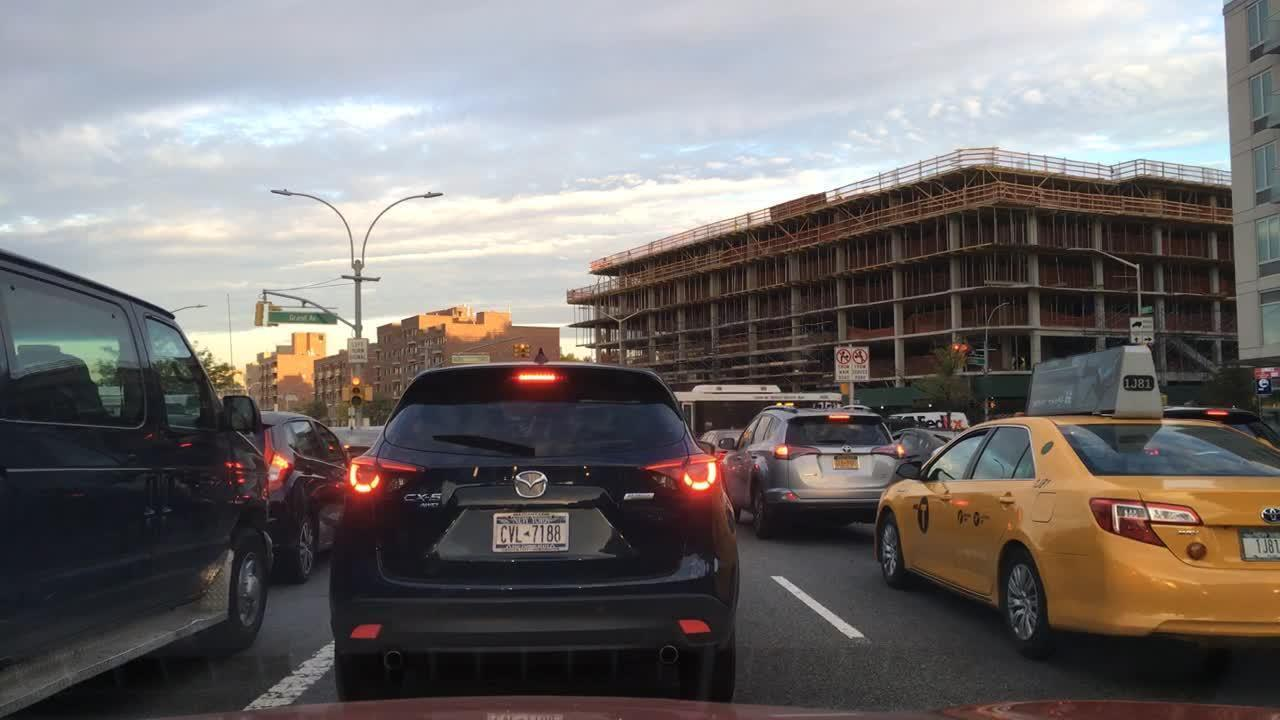Mazda: (511, 467, 553, 498)
Toyota: (841, 443, 855, 455)
